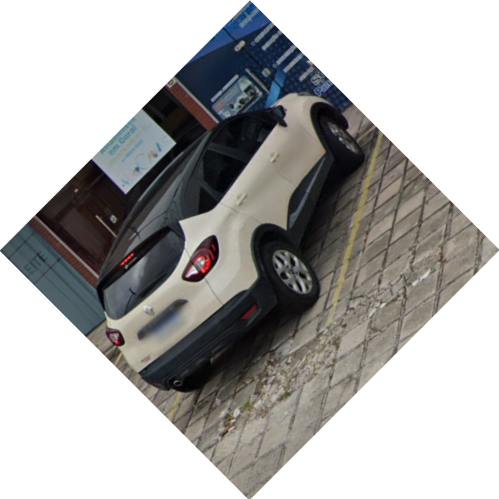car: (92, 89, 366, 396)
